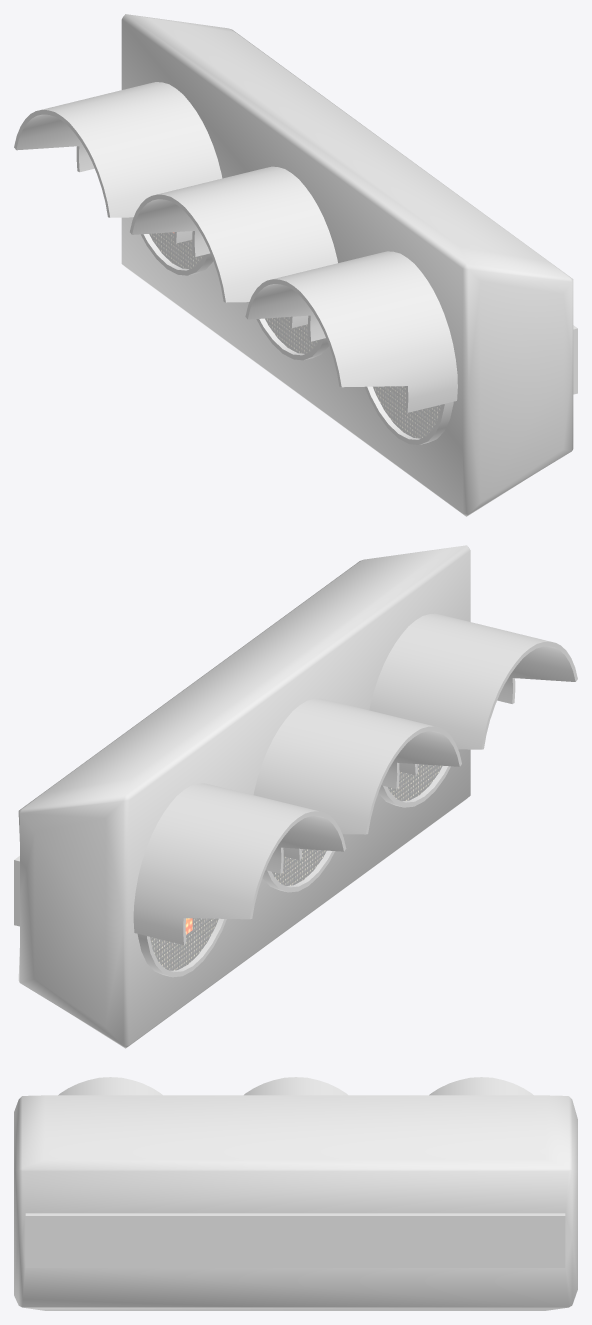
File: 横向直行灯_RedLight.glb
The picture shows the model from 3 angles, top to bottom: view 1: azimuth 30°, elevation 25°; view 2: azimuth 150°, elevation 25°; view 3: azimuth 270°, elevation 25°; orthographic projection. The views are drawn at different scales.
Parts seen in each view (by area): view 1: 横向直行灯_RedLight; view 2: 横向直行灯_RedLight; view 3: 横向直行灯_RedLight.
Part boxes in pixels (<box>): 横向直行灯_RedLight: <box>14,14,577,516</box>; 横向直行灯_RedLight: <box>14,545,577,1048</box>; 横向直行灯_RedLight: <box>14,1077,577,1310</box>.
Size of the model in its own units: 0.6 by 0.65 by 1.58.
3 materials, 2 textured.
